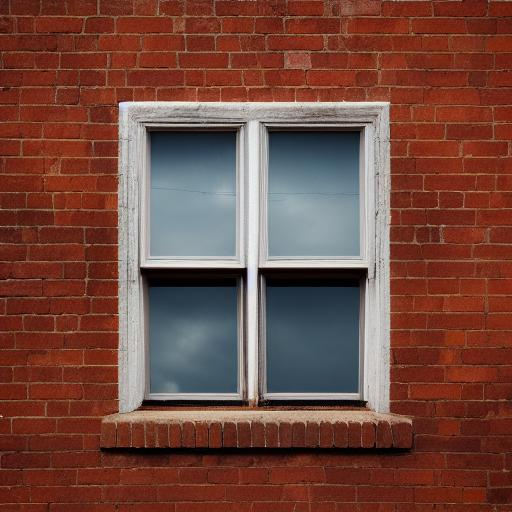Window: (99, 97, 419, 454)
